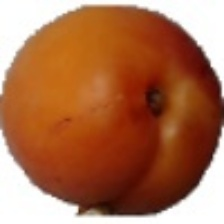apricot: (20, 33, 197, 187)
